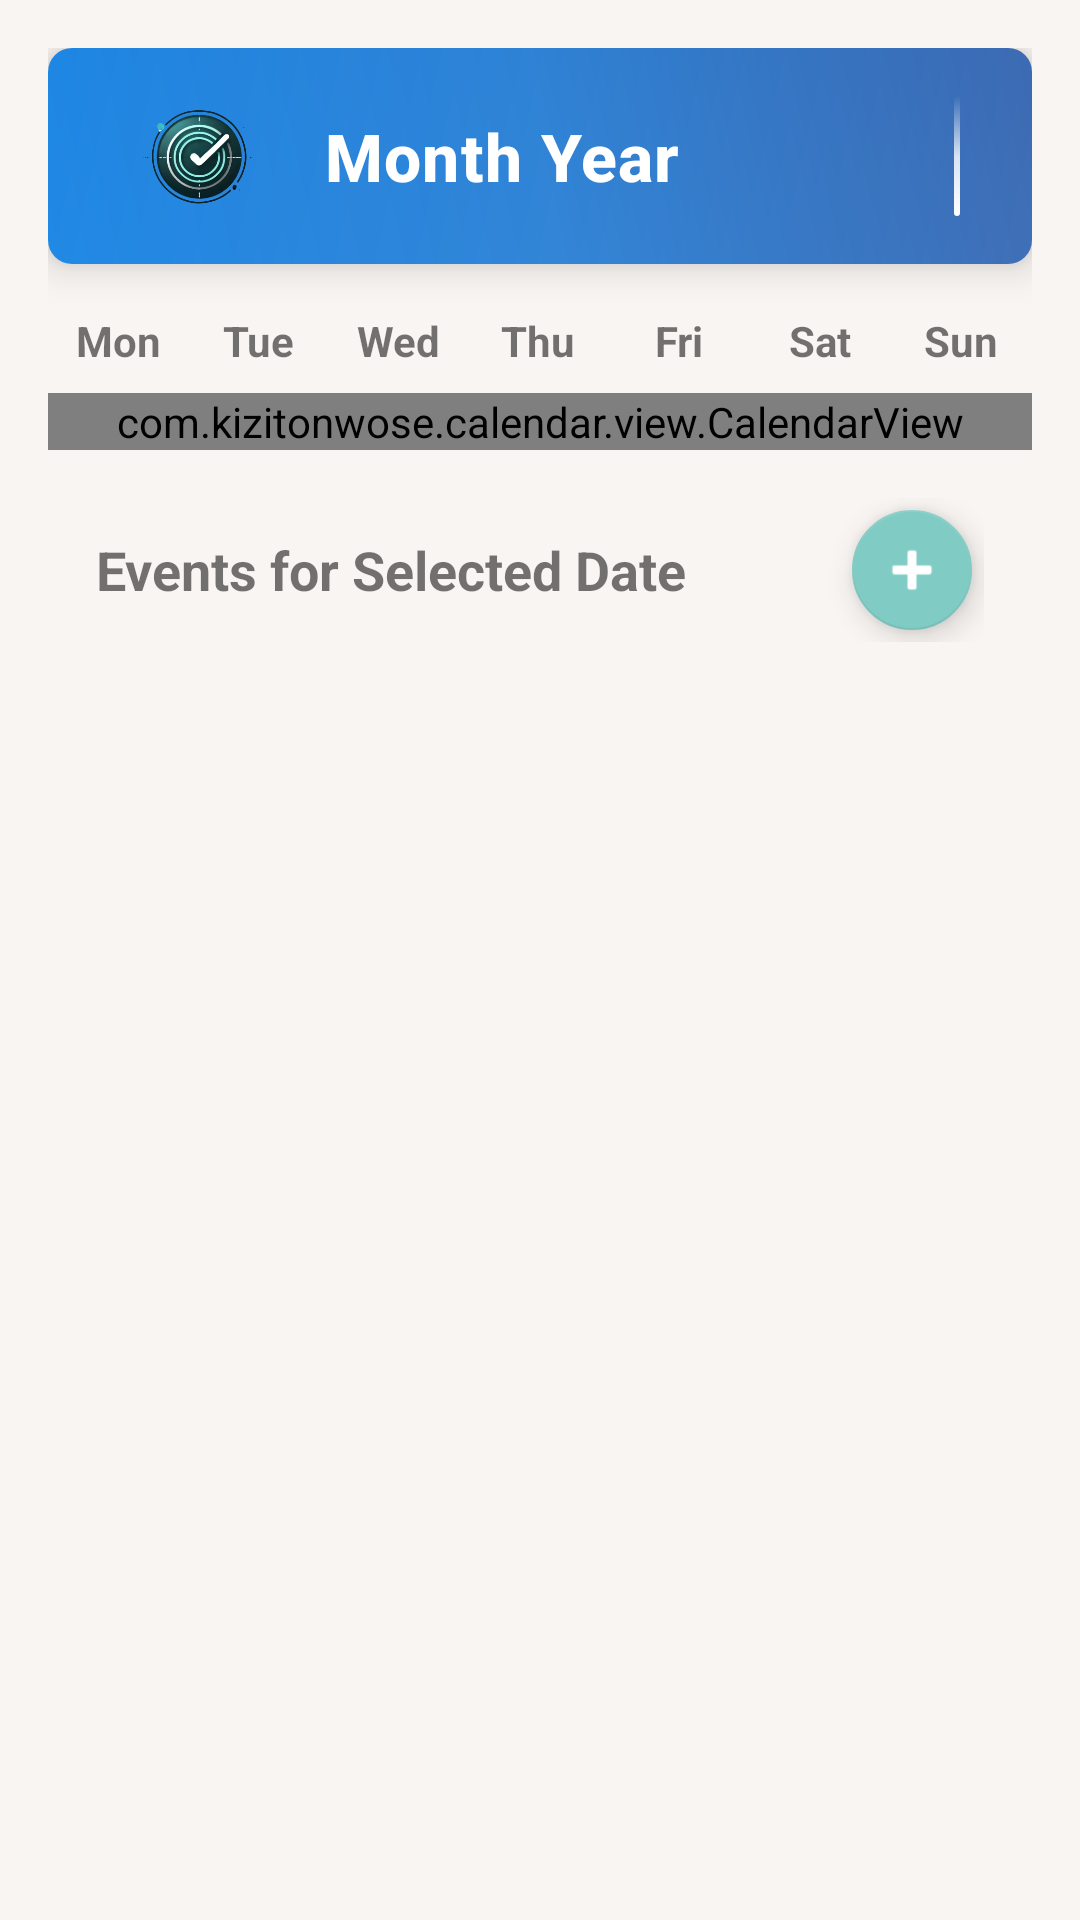

Point at icon controls on the screen. Image size 1080w x 1920h, points as (x=x, y=y).
Add Event: (x=913, y=572)
